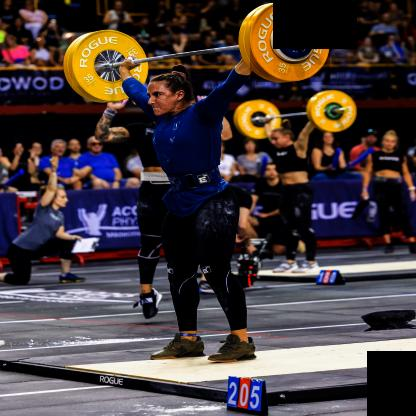barbell: (251, 1, 331, 83), (73, 30, 150, 103)
